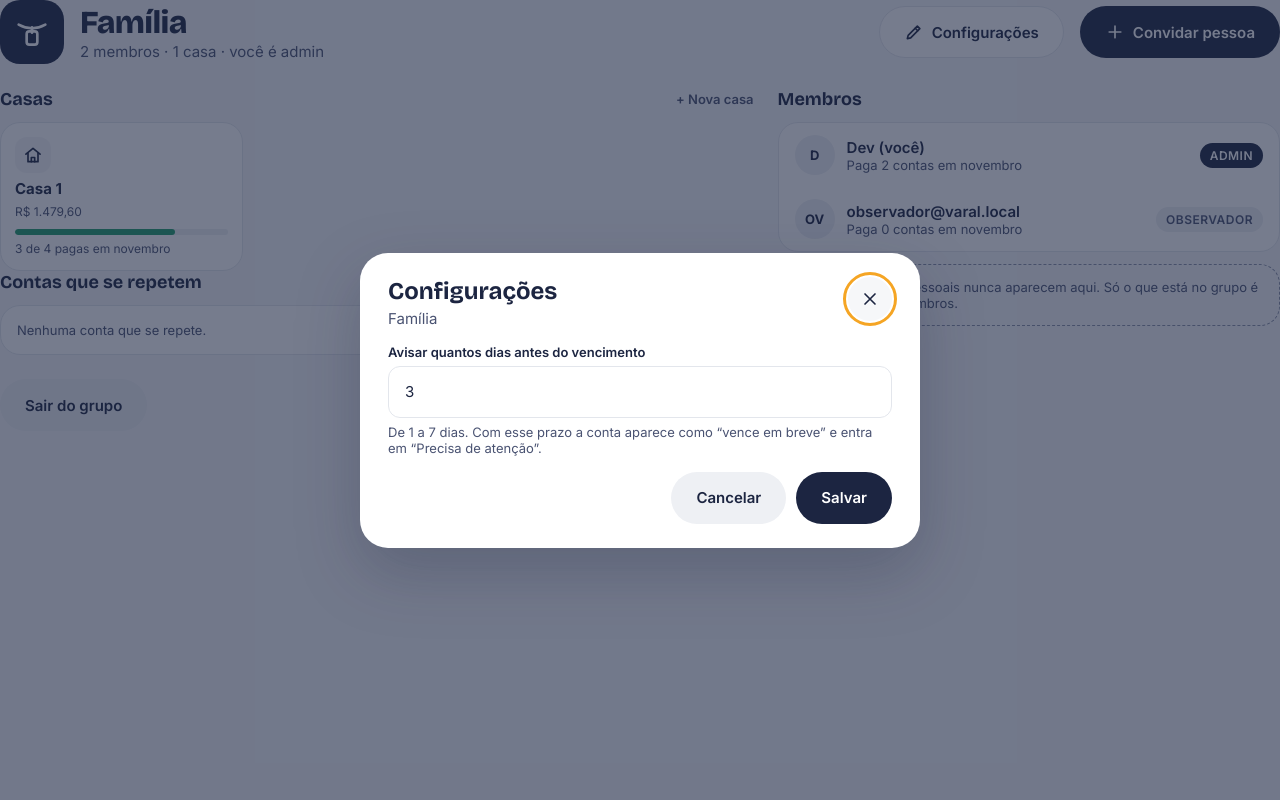
Scenario: q10/rn13: admin sets the alert window from 1 to 7 days
The width and height of the screenshot is (1280, 800).
Earlier steps of the test are not shown.
Later steps or results of the test are not shown.
Replace the text in the number field labelled "Avisar quantos dias antes do vencimento" with "9" at (640, 392), box [405,366,875,416]
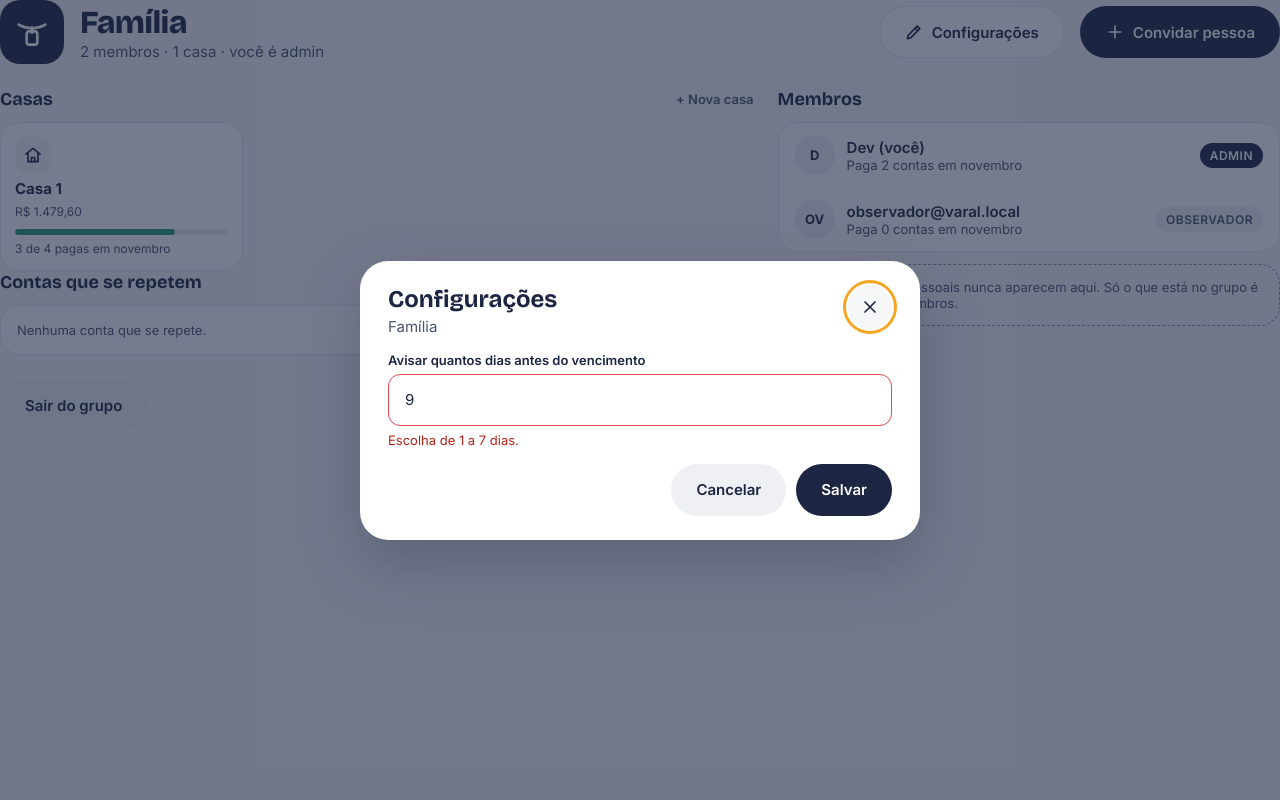
Expected: the text "Escolha de 1 a 7 dias." is shown, [388,432,519,448]
